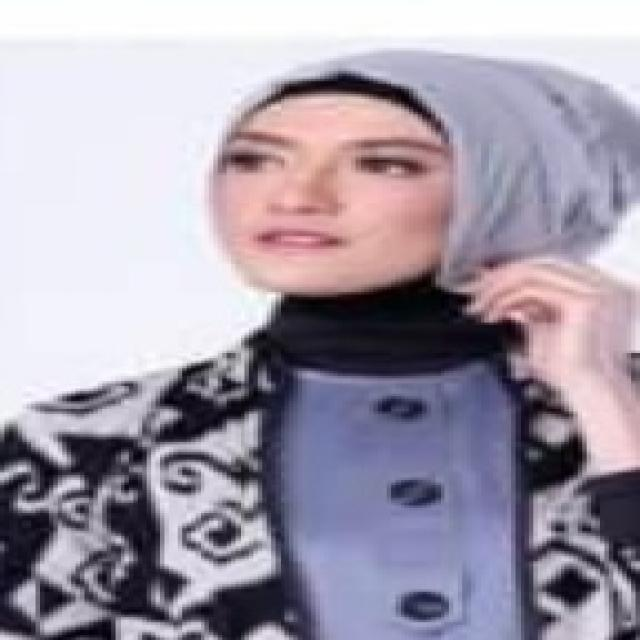head: (194, 52, 548, 306)
